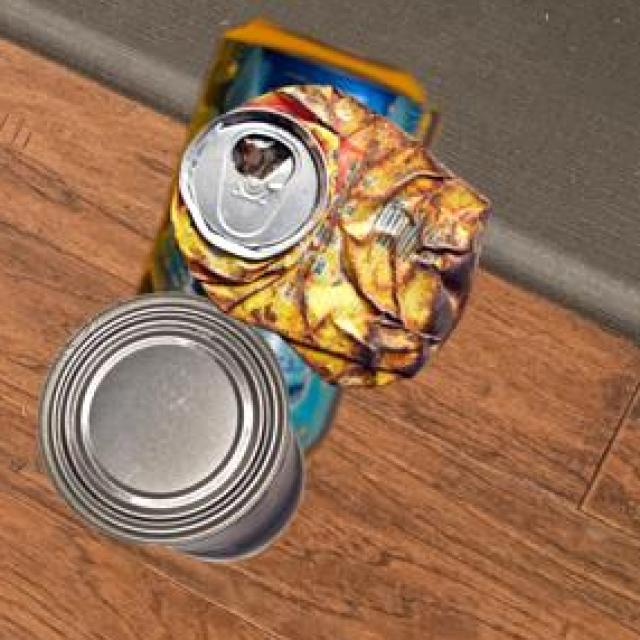logam: (135, 17, 437, 455), (169, 82, 487, 384), (35, 290, 301, 558)
